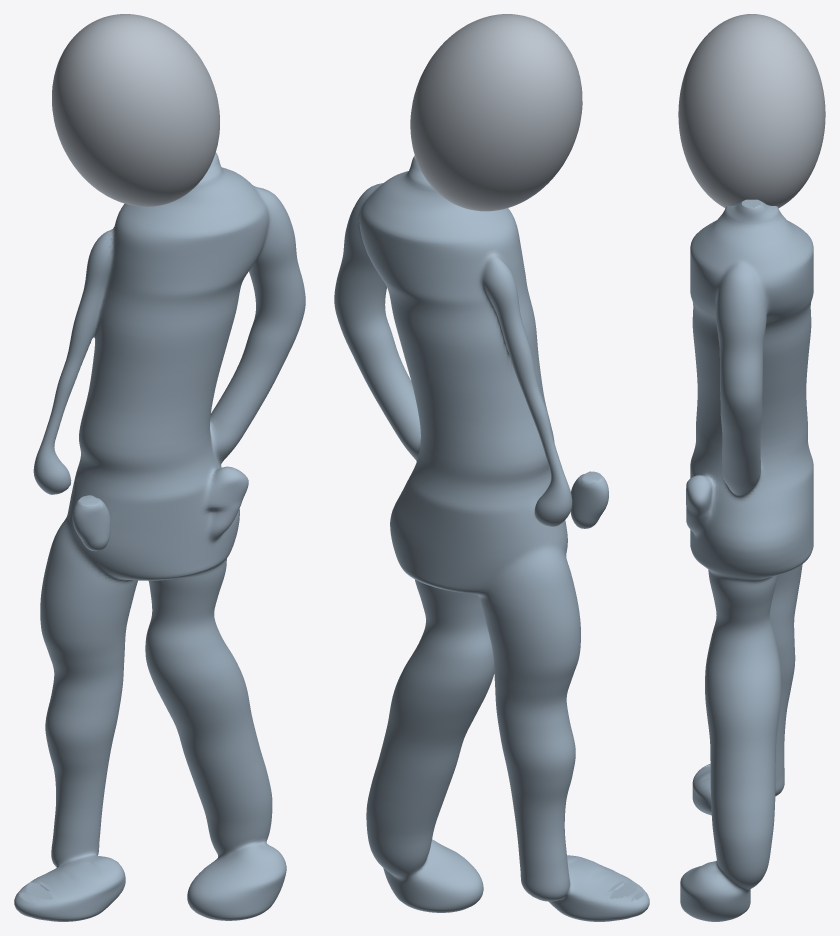
Rendered from hero-body.glb.
3 views of the same model, side by side, from view 1: azimuth 30°, elevation 25°; view 2: azimuth 150°, elevation 25°; view 3: azimuth 270°, elevation 25° (orthographic). The views are drawn at different scales.
Parts seen in each view (by area): view 1: body-base, head-placeholder; view 2: body-base, head-placeholder; view 3: body-base, head-placeholder.
Part boxes in pixels (x1=…): body-base: x1=14, y1=152, x2=305, y2=921; head-placeholder: x1=52, y1=14, x2=219, y2=206; body-base: x1=334, y1=155, x2=649, y2=921; head-placeholder: x1=410, y1=14, x2=582, y2=211; body-base: x1=680, y1=199, x2=813, y2=921; head-placeholder: x1=678, y1=14, x2=825, y2=207.
Bounding box in the file's own units: 0.5455 × 1.6 × 0.25.
